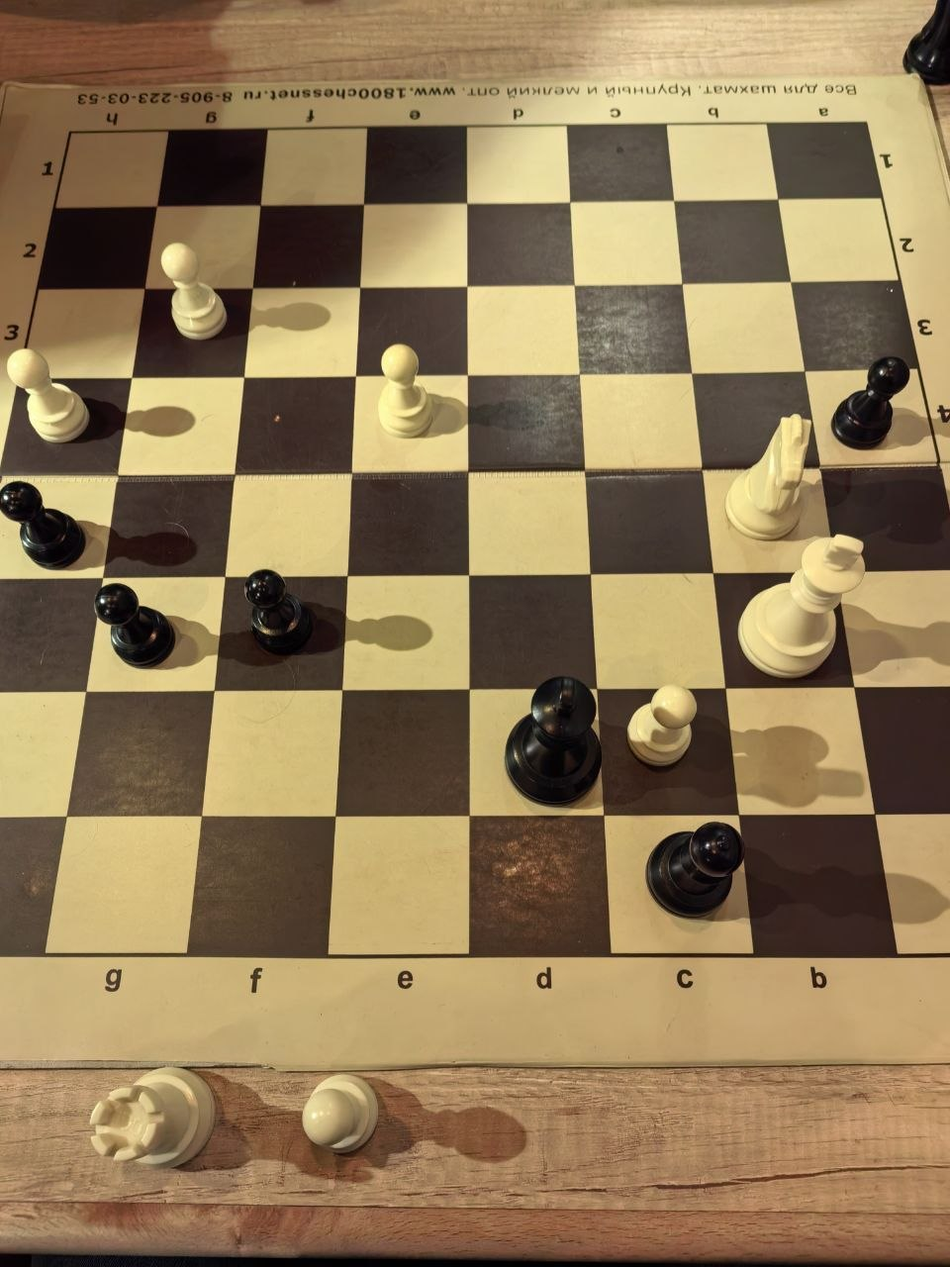black-bishop: (484, 646, 561, 748), (770, 646, 846, 748), (294, 266, 370, 367), (674, 773, 750, 874)
black-queen: (200, 393, 276, 494)
black-rook: (200, 519, 276, 621)
white-bishop: (770, 519, 846, 621), (104, 646, 180, 748), (580, 393, 656, 494), (674, 393, 750, 494)
white-king: (294, 139, 370, 241)
white-queen: (390, 266, 466, 367)
